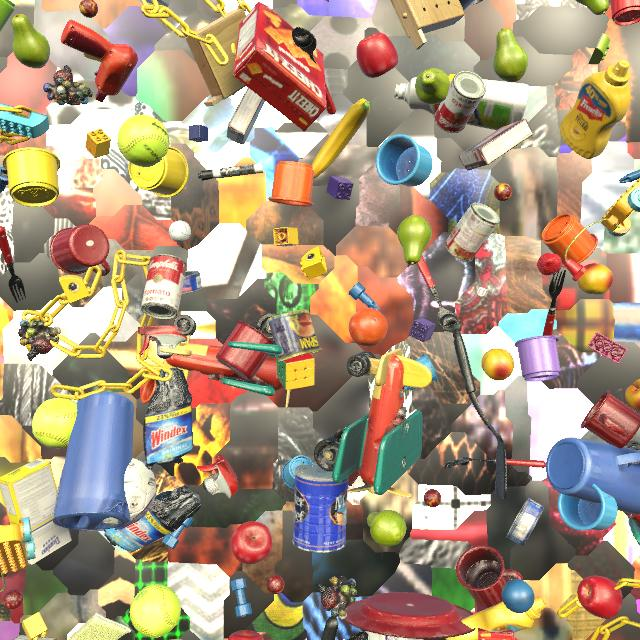ycb_002_master_chef_can: (292, 463, 349, 553)
ycb_003_cracker_box: (233, 2, 327, 132), (475, 601, 515, 640)
ycb_004_sugar_box: (0, 458, 72, 565)
ycb_005_tomato_soup_can: (445, 203, 500, 262), (434, 71, 486, 133), (141, 254, 187, 320)
ycb_006_mustard_bottle: (559, 60, 630, 159), (446, 597, 547, 640)
ycb_007_tuna_fish_can: (506, 497, 544, 546), (182, 270, 202, 294)
ycb_008_pudding_box: (458, 118, 533, 171), (226, 88, 265, 144), (13, 635, 57, 640)
ycb_010_potted_meat_can: (267, 309, 322, 362), (170, 639, 183, 640)
ycb_011_banana: (311, 99, 370, 179)
ycb_012_strawberry: (537, 253, 562, 275)
ycb_013_apple: (577, 576, 623, 619), (356, 33, 398, 78), (231, 521, 272, 564), (228, 630, 264, 640)
ycb_015_peach: (577, 263, 613, 295), (481, 348, 514, 381), (625, 379, 640, 411)
ycb_016_pear: (11, 14, 50, 69), (493, 28, 528, 82), (397, 215, 432, 265), (367, 510, 406, 546), (415, 68, 450, 105), (575, 0, 609, 15)
ycb_017_orange: (349, 308, 388, 346)
